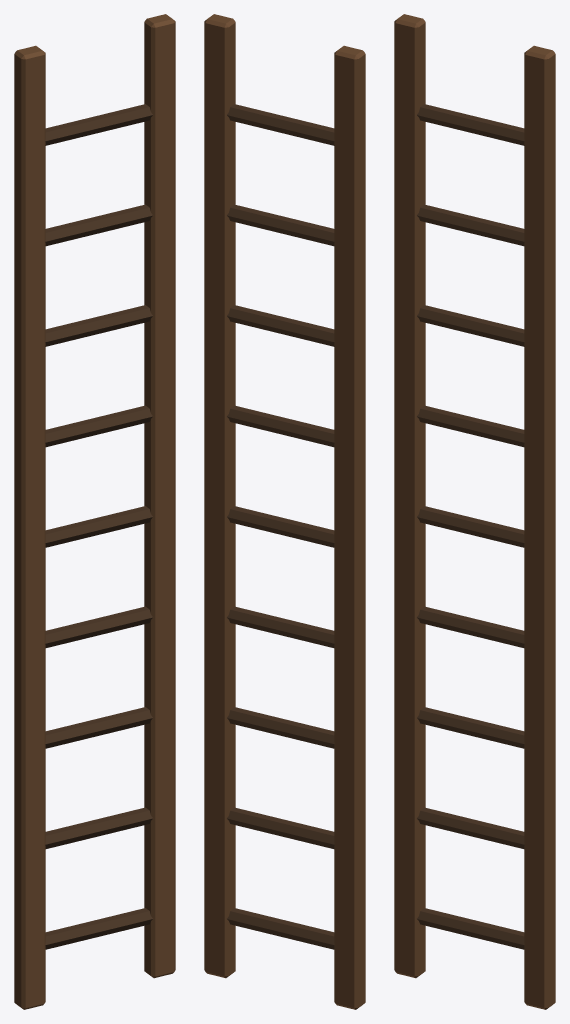
The model's file is mdvl_village_ladder_01.glb.
3 views of the same model, side by side, from view 1: azimuth 30°, elevation 25°; view 2: azimuth 150°, elevation 25°; view 3: azimuth 330°, elevation 25° (orthographic).
Visible parts, largest first — view 1: mdvl_village_ladder_01; view 2: mdvl_village_ladder_01; view 3: mdvl_village_ladder_01.
Part boxes in pixels (x1=…): mdvl_village_ladder_01: x1=14, y1=14, x2=175, y2=1009; mdvl_village_ladder_01: x1=204, y1=14, x2=365, y2=1009; mdvl_village_ladder_01: x1=394, y1=14, x2=555, y2=1009.
Bounding box in the file's own units: 0.44 × 2.6 × 0.05.
Materials: 1 (1 with a texture image).
